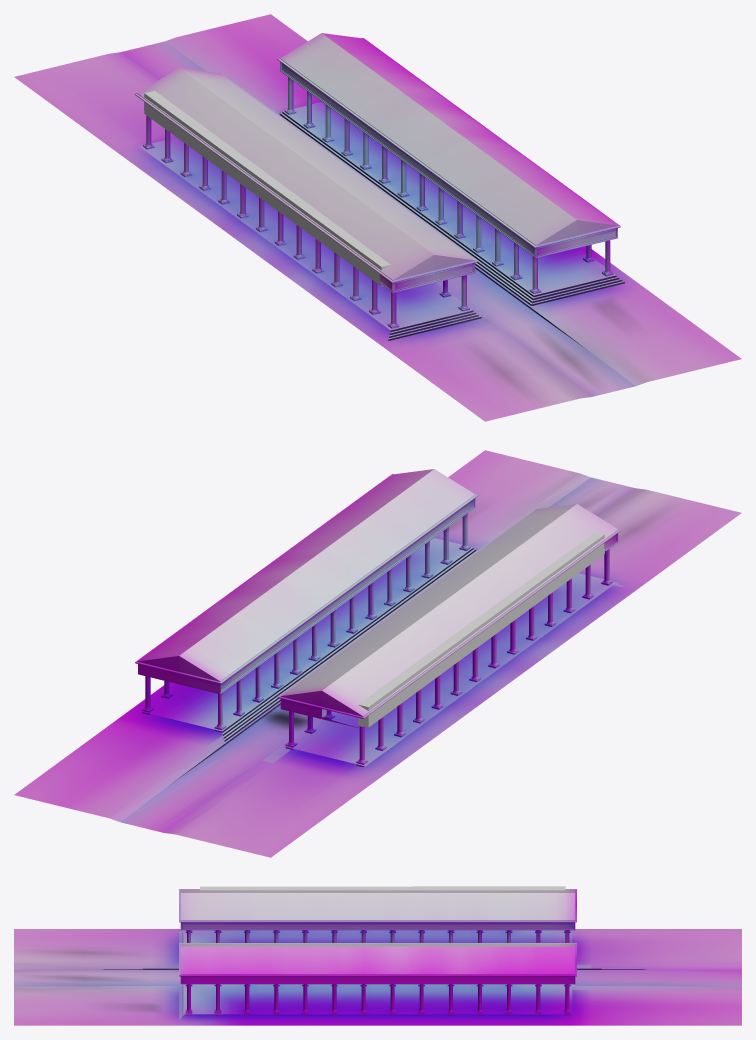
Rendered from individual_kingdom.glb.
3 views of the same model, one above another, from view 1: azimuth 30°, elevation 25°; view 2: azimuth 150°, elevation 25°; view 3: azimuth 270°, elevation 25° (orthographic). The views are drawn at different scales.
Visible parts, largest first — view 1: ground_kingdom; view 2: ground_kingdom; view 3: ground_kingdom.
Part boxes in pixels (left/top/right/bottom): ground_kingdom: left=14, top=14, right=741, bottom=421; ground_kingdom: left=14, top=450, right=741, bottom=857; ground_kingdom: left=14, top=886, right=741, bottom=1025.
Size of the model in its own units: 25.13 by 7.06 by 79.81.
